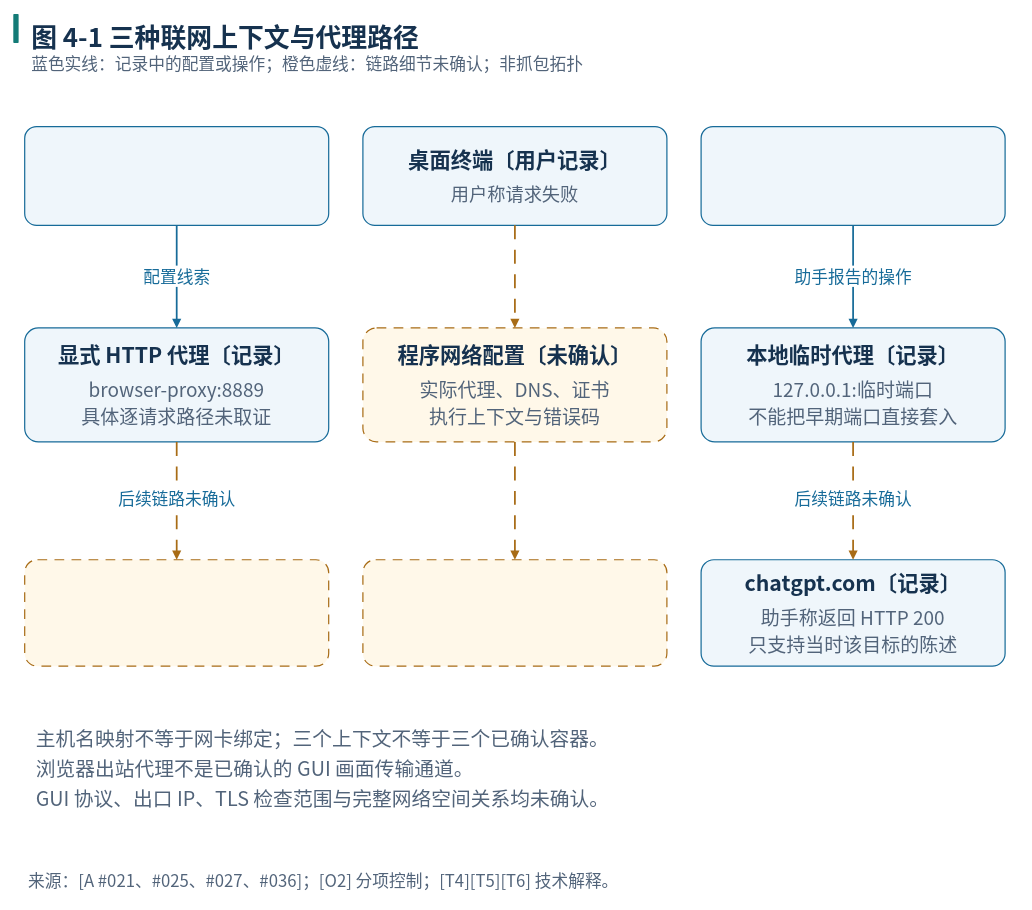
The diagram is 1032 pixels wide and 910 high, and some of its shapes have lost their labels. The shapes that lost their labels are listed below. From the top down, each one's box as (x1, y1, x2, y2) in pixels, then its label:
(24, 126, 329, 226): 云端 Chromium〔记录〕 启动参数由历史助手转述
(700, 126, 1005, 226): 助手命令工具〔记录〕 助手称单个请求成功
(24, 559, 329, 666): 目标网站〔逻辑终点〕 出口及后续代理链未知
(362, 559, 667, 666): 请求结果待复现 不能据此认定全部断网
